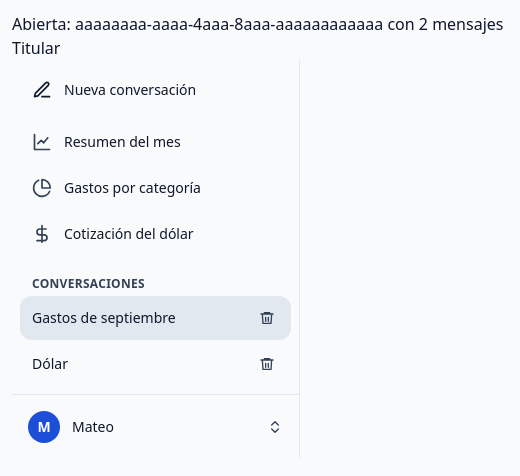
Scenario: cambiar de conversación sin recargar › si se elige otra cosa mientras una conversación se está abriendo, gana lo último que se eligió
Click the link "Dólar" at [50, 364], box [32,354,68,373]
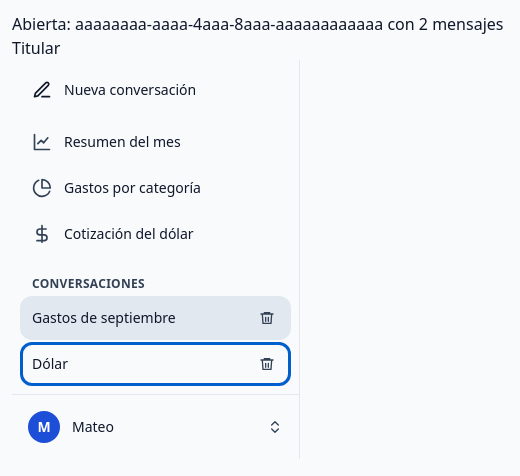
Click the link "Nueva conversación" at [114, 90], box [32,80,196,100]
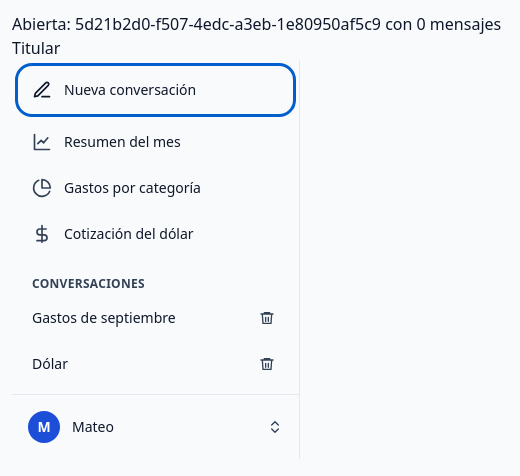
Now the text "Abierta: 5d21b2d0-f507-4edc-a3eb-1e80950af5c9 con 0 mensajes" is shown, box [12,13,501,35]
